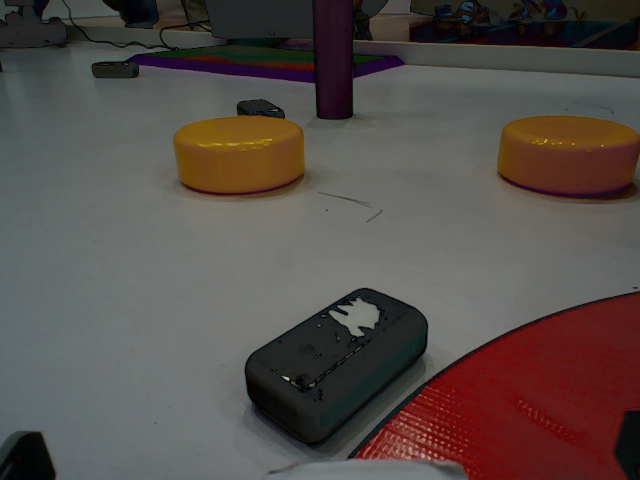black: (224, 276, 477, 450), (226, 92, 287, 125), (87, 61, 149, 86)
kuang: (127, 39, 431, 80)
yellow: (497, 106, 640, 217), (162, 115, 312, 206)
zhuzi: (309, 1, 364, 129)
